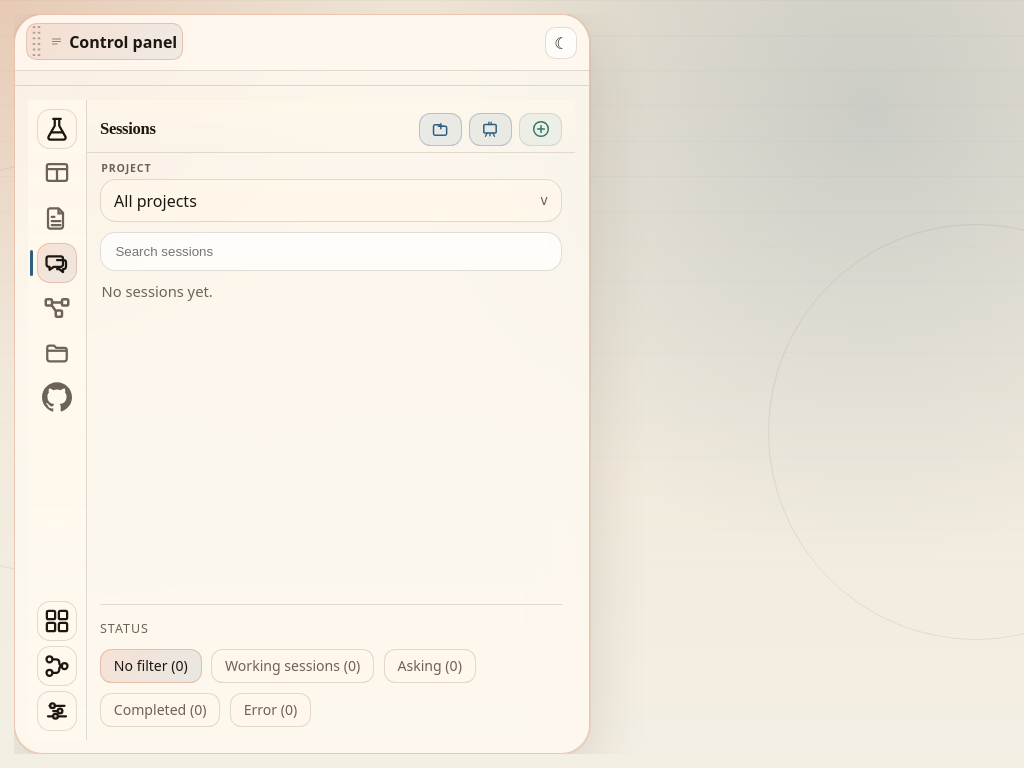
Scenario: App workspace layout › renames a non-current workspace without changing the current document title
The image size is (1024, 768).
Click the button named "Workspaces": (57, 173) x1=37 y1=153 x2=77 y2=193
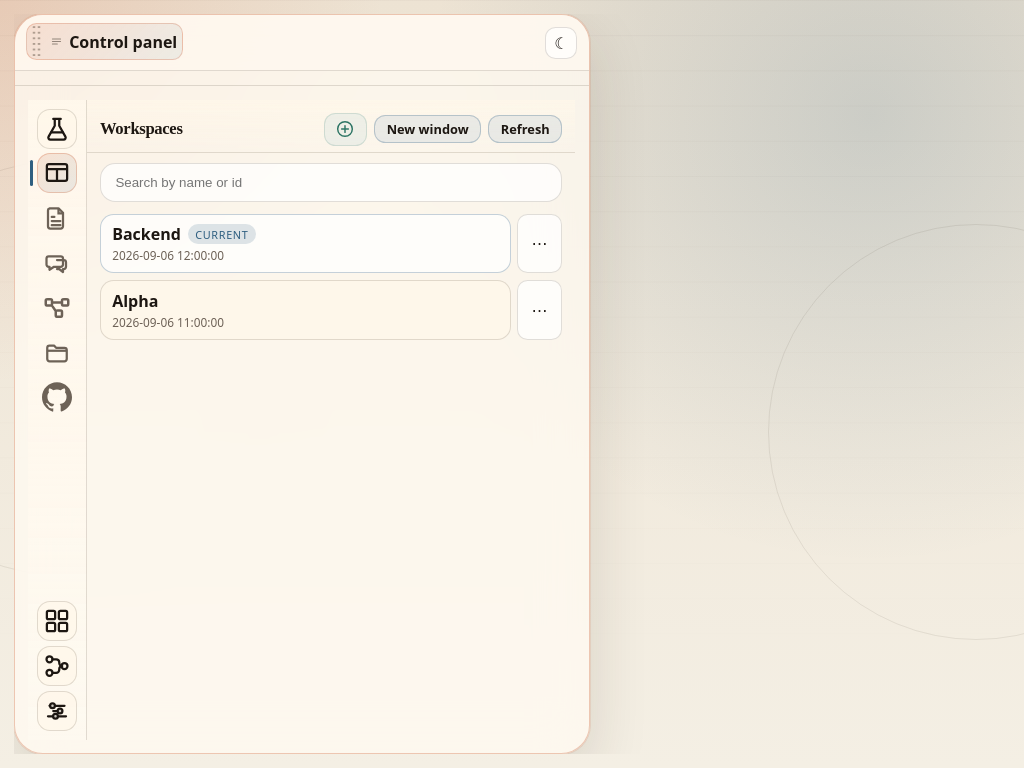
Check: the button with aria-label "Backend (current)" is shown, box x1=100 y1=214 x2=511 y2=273
Click the button named "Actions for workspace Alpha": (540, 310) x1=517 y1=280 x2=562 y2=340
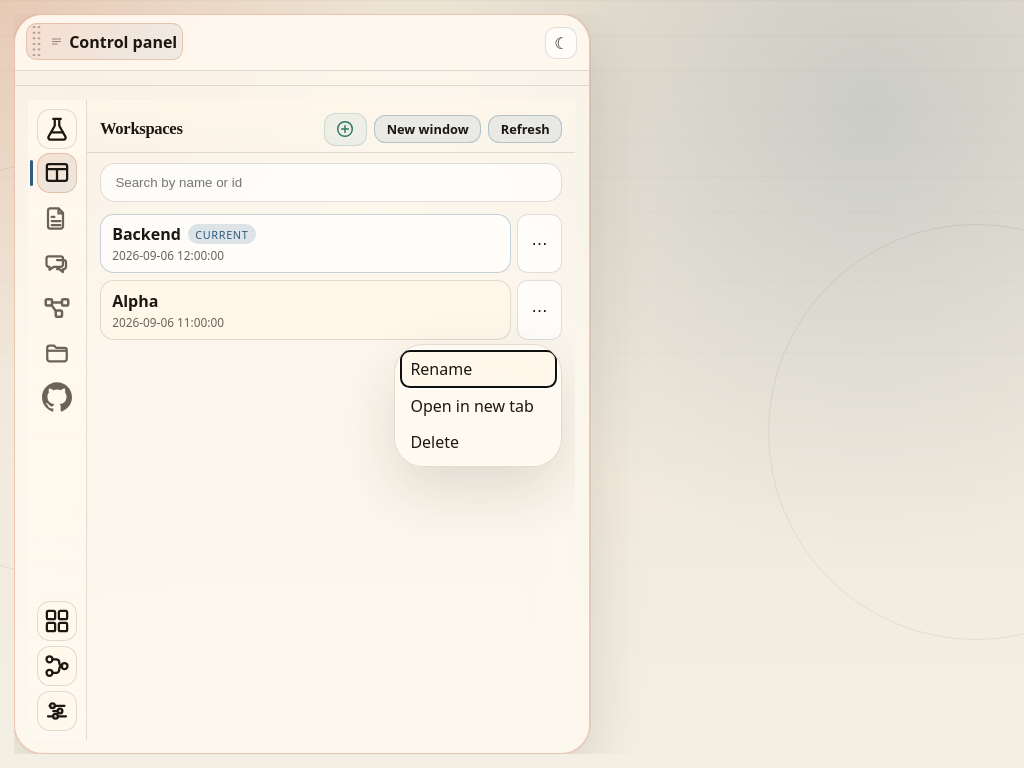
Click the menu item "Rename": (478, 369) x1=401 y1=351 x2=556 y2=388
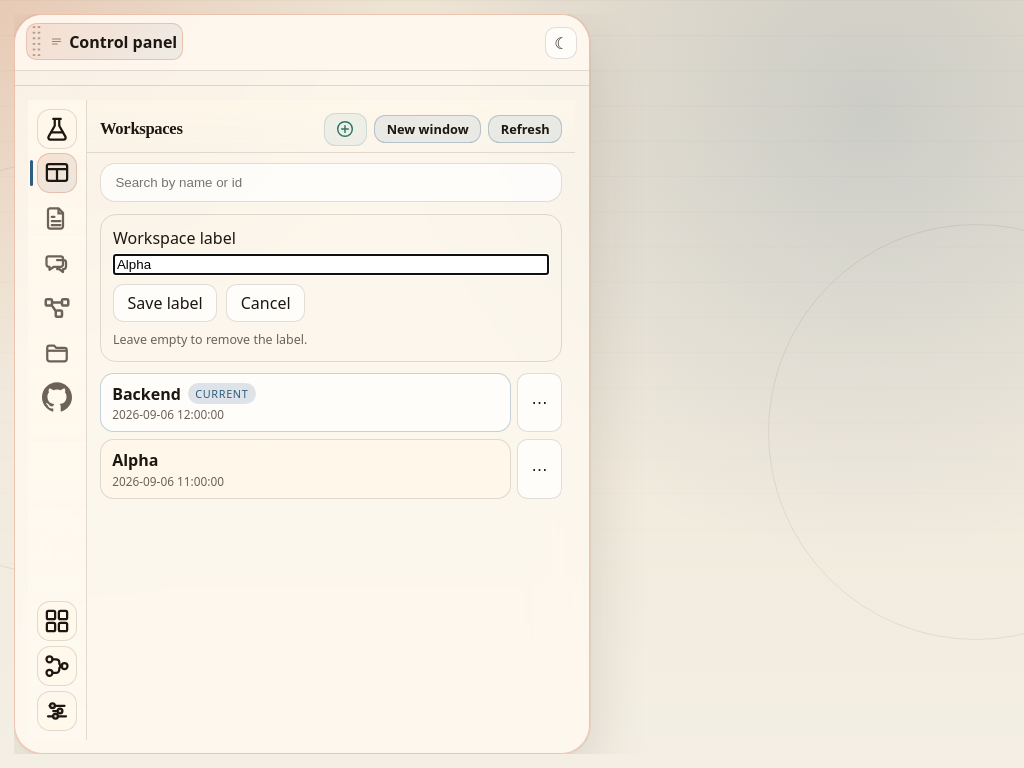
Replace the text in the field labelled "Workspace label" with "  Reviews  ": (331, 265) x1=113 y1=254 x2=549 y2=275
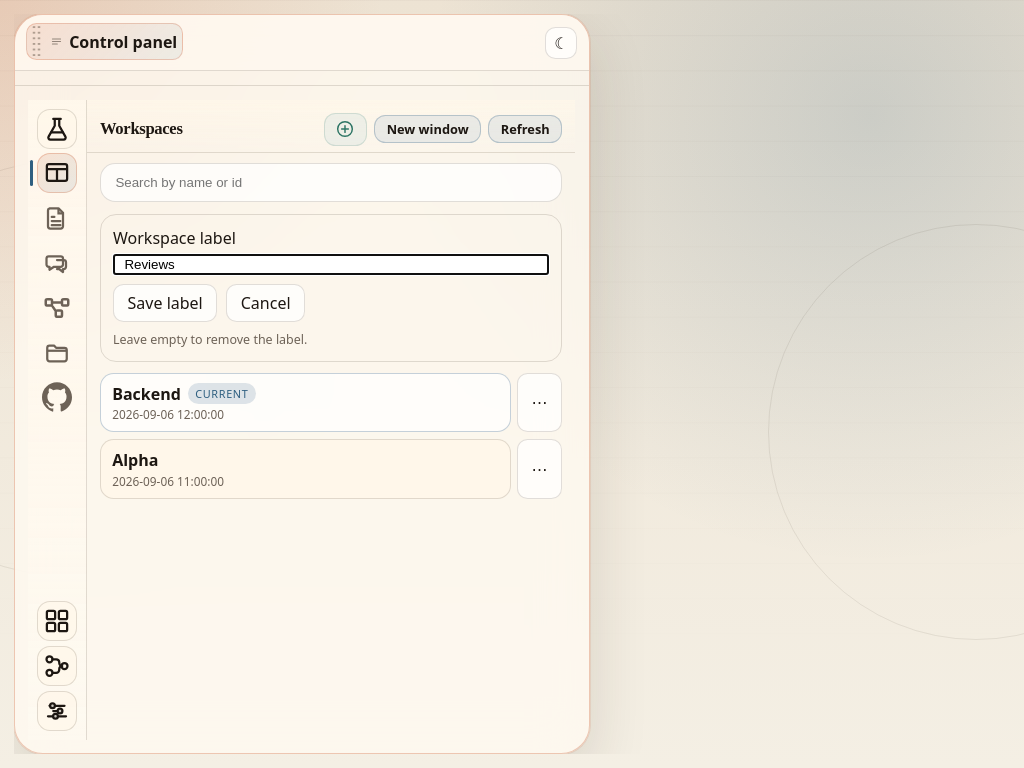
Click the button "Save label": (165, 303) x1=113 y1=284 x2=217 y2=322
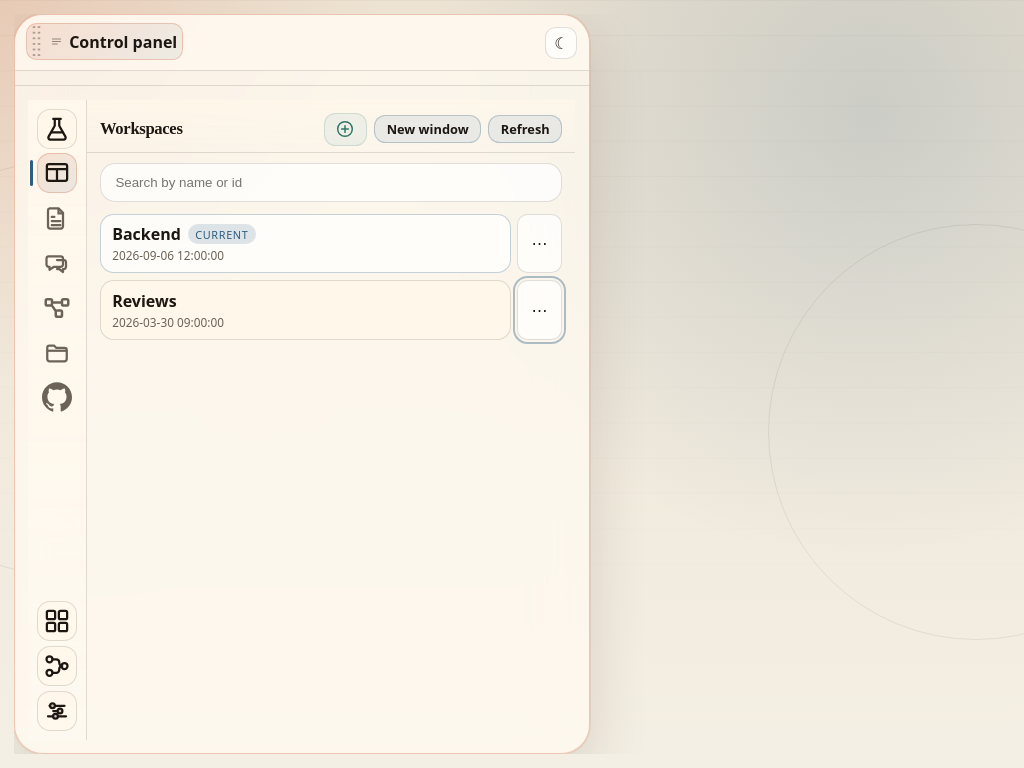
Check: the button with aria-label "Backend (current)" is shown, box x1=100 y1=214 x2=511 y2=273
Check: the button "Reviews 2026-03-30 09:00:00" is shown, box x1=100 y1=280 x2=511 y2=340
